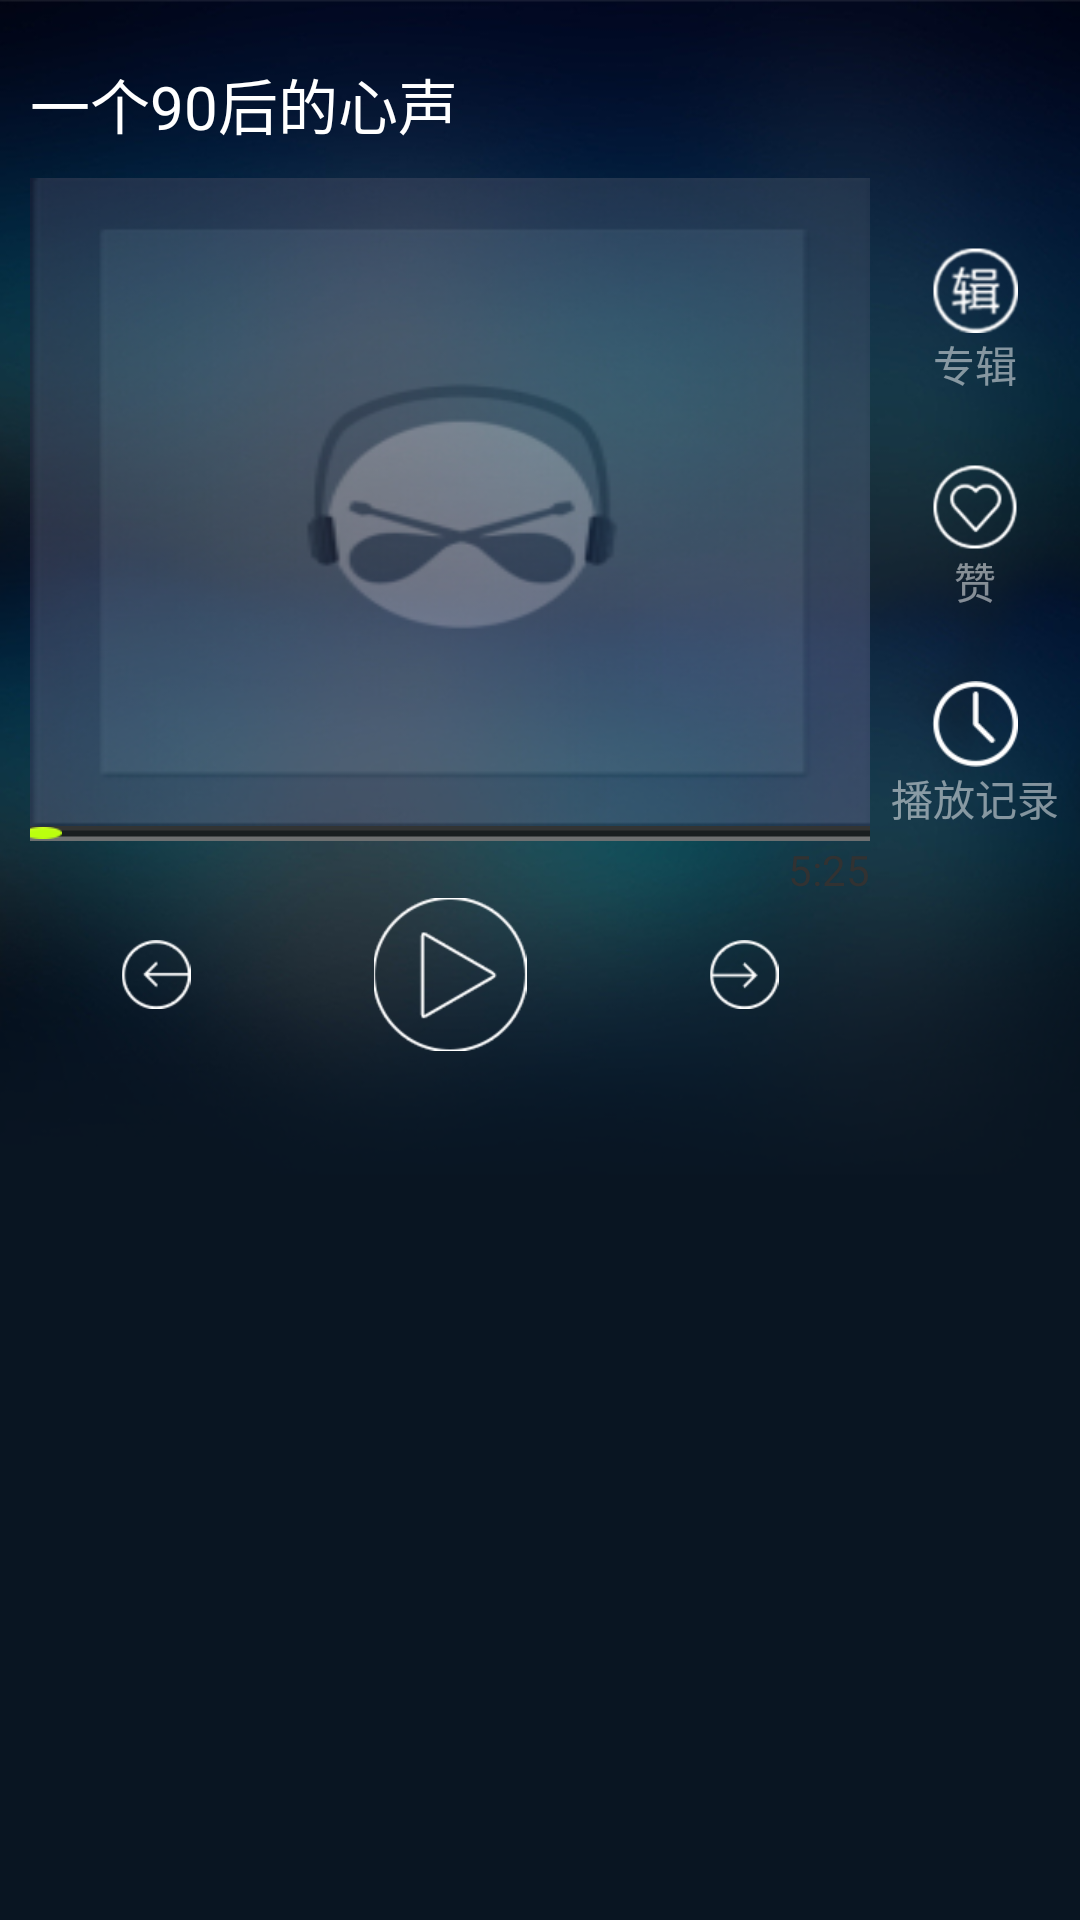

Named icons in this screenshot (1080px×1920px) and their bounding boxes, (x1, y1, x2, y2):
play next: (710, 940, 779, 1009)
